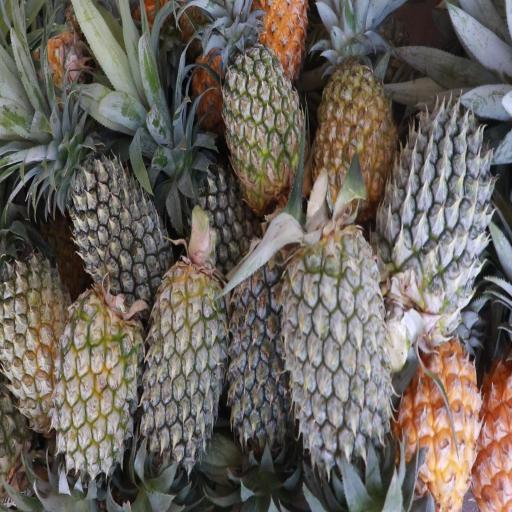------------------------------: (62, 298, 141, 479), (0, 256, 78, 425), (225, 43, 306, 195)
Pineapple - v8 v1: (400, 343, 480, 502), (314, 55, 393, 210)
